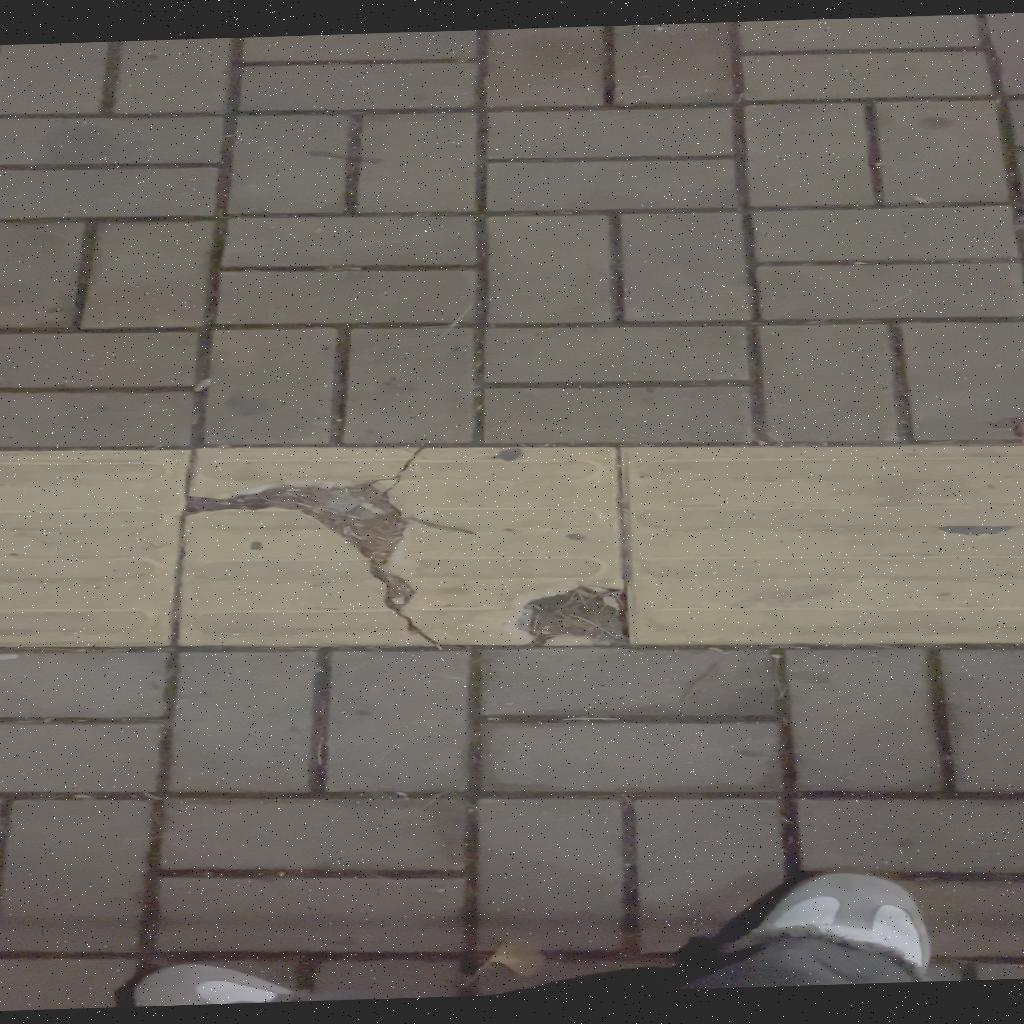Straight block broken: (180, 450, 626, 644)
